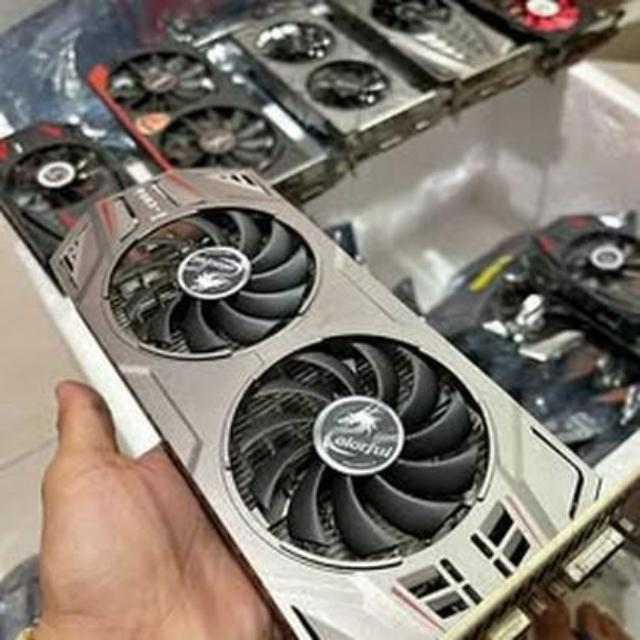GPU: (56, 157, 604, 640), (76, 23, 313, 198), (230, 0, 432, 151), (0, 111, 155, 302), (338, 0, 630, 100)
